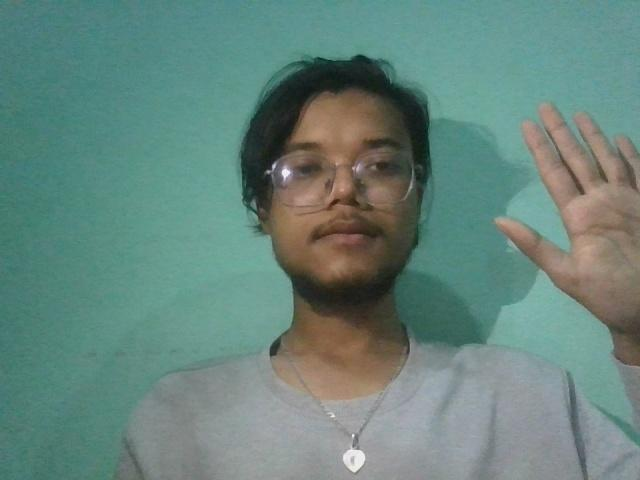hello: (477, 85, 639, 358)
